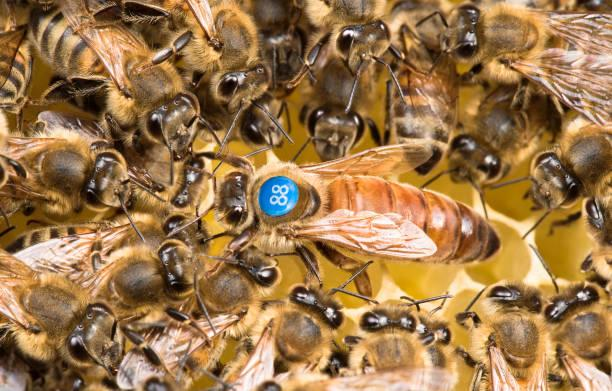Queen-Bee: (214, 139, 500, 270)
worker-bee: (30, 0, 199, 157), (440, 2, 611, 125), (232, 301, 457, 390), (0, 249, 122, 374), (384, 0, 458, 174), (0, 133, 130, 219), (447, 86, 555, 186), (456, 282, 548, 390), (242, 284, 343, 379), (78, 240, 194, 314), (544, 281, 611, 390), (209, 63, 268, 132)
